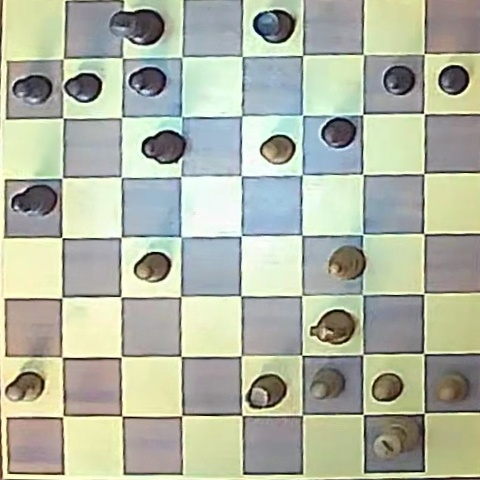black-bishop: (11, 184, 58, 217), (142, 130, 184, 164)
black-king: (110, 9, 163, 46)
black-pawn: (12, 74, 53, 105), (64, 72, 103, 102), (128, 67, 166, 97), (322, 118, 356, 148), (383, 65, 415, 95), (438, 65, 470, 95)
black-rook: (253, 9, 293, 43)
white-bishop: (327, 246, 365, 280)
white-king: (371, 416, 421, 461)
white-knight: (311, 310, 355, 345)
white-pawn: (5, 372, 45, 403), (134, 252, 170, 283), (310, 368, 344, 400), (260, 135, 295, 164), (372, 373, 404, 402), (436, 374, 467, 403)
white-rook: (247, 375, 286, 409)
